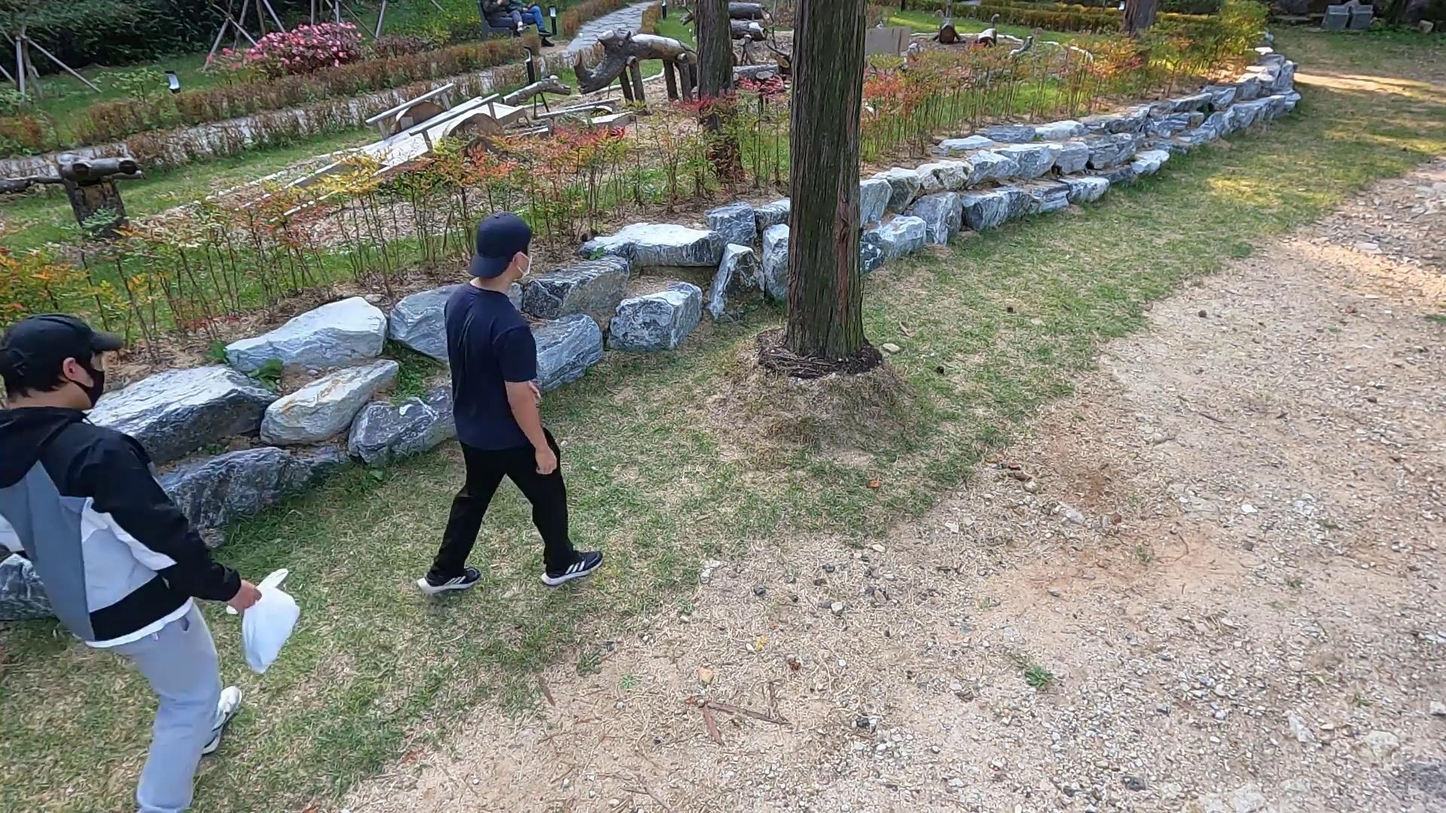person: (0, 310, 293, 813), (419, 210, 613, 610)
trash: (219, 561, 303, 668)
